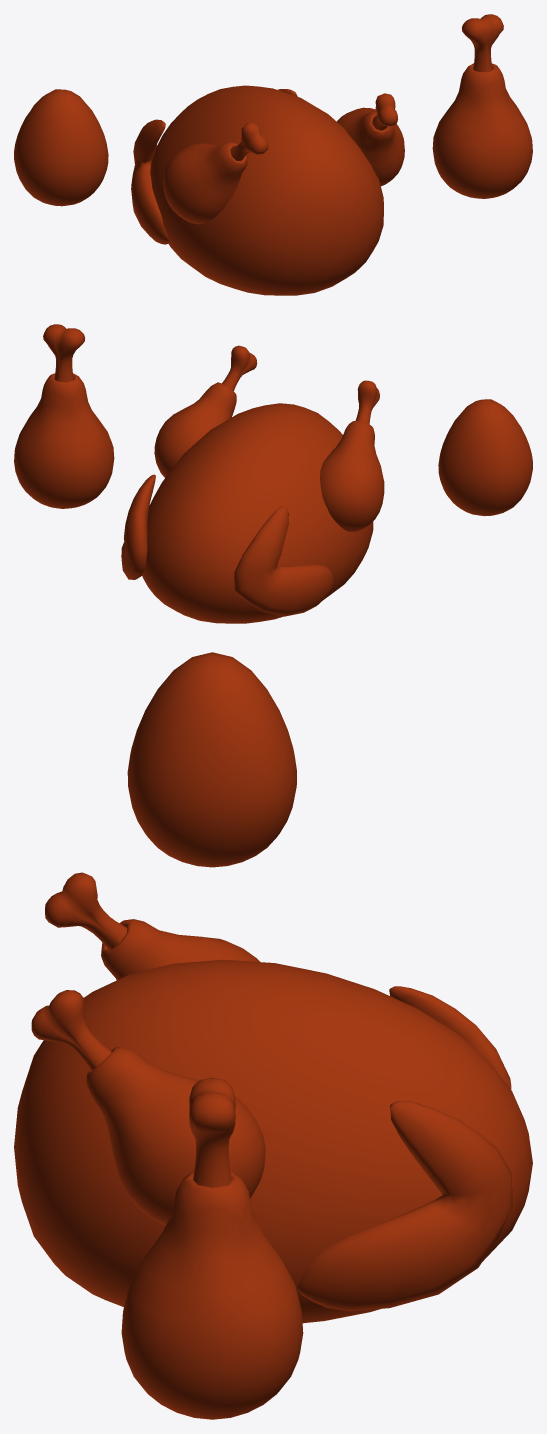
File: FriedChikenEgg01.fbx
The picture shows the model from 3 angles, top to bottom: view 1: azimuth 30°, elevation 25°; view 2: azimuth 150°, elevation 25°; view 3: azimuth 270°, elevation 25°; orthographic projection. The views are drawn at different scales.
Visible parts, largest first — view 1: ChickenBody, ChickenLeg, Egg, ChickenLeg003, ChickenWing, ChickenLegBone002, ChickenLegBone; view 2: ChickenBody, ChickenLeg, ChickenLeg003, Egg, ChickenWing, ChickenLegBone002, ChickenLegBone; view 3: ChickenBody, ChickenLeg, Egg, ChickenWing, ChickenLeg003, ChickenLegBone002, ChickenLegBone.
Boxes of the visible parts, x1,y1,x2,y2 form: ChickenBody: [150, 85, 383, 295]; ChickenLeg: [432, 63, 532, 198]; Egg: [14, 89, 108, 206]; ChickenLeg003: [163, 107, 404, 224]; ChickenWing: [131, 89, 297, 244]; ChickenLegBone002: [230, 93, 397, 160]; ChickenLegBone: [462, 14, 503, 71]; ChickenBody: [142, 403, 373, 623]; ChickenLeg: [14, 373, 114, 508]; ChickenLeg003: [154, 382, 384, 531]; Egg: [438, 399, 532, 516]; ChickenWing: [121, 474, 333, 616]; ChickenLegBone002: [222, 345, 379, 423]; ChickenLegBone: [43, 324, 84, 381]; ChickenBody: [14, 959, 532, 1323]; ChickenLeg: [121, 1170, 303, 1419]; Egg: [127, 652, 296, 867]; ChickenWing: [298, 986, 512, 1311]; ChickenLeg003: [86, 919, 265, 1225]; ChickenLegBone002: [31, 872, 127, 1070]; ChickenLegBone: [189, 1077, 235, 1187].
Bounding box in the file's own units: 95.94 × 44.02 × 46.66.
